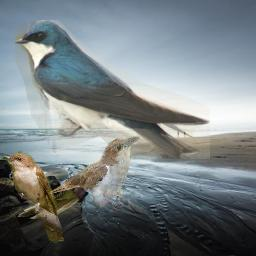Cuckoo: (17, 135, 141, 219), (0, 151, 64, 243)
Swallow: (15, 20, 210, 159)
